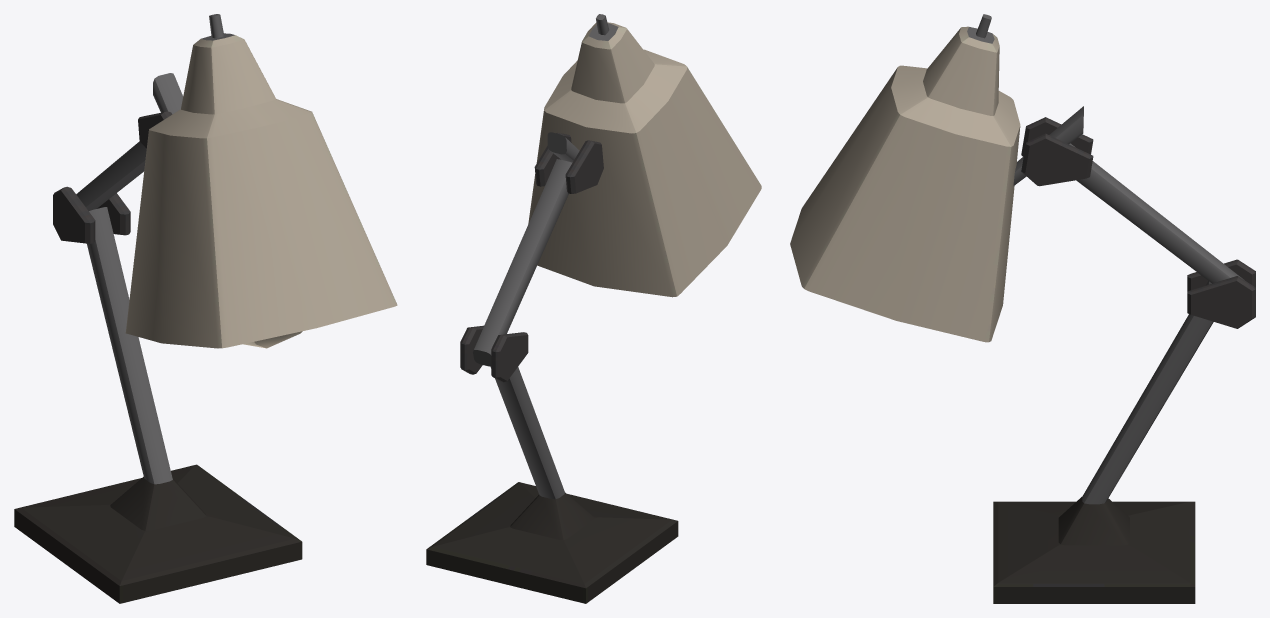
Rendered from desk lamp.glb.
3 views of the same model, side by side, from view 1: azimuth 30°, elevation 25°; view 2: azimuth 150°, elevation 25°; view 3: azimuth 270°, elevation 25° (orthographic). The views are drawn at different scales.
Visible parts, largest first — view 1: Desk_Lamp; view 2: Desk_Lamp; view 3: Desk_Lamp.
Part boxes in pixels (x1,y1,x2,y2): Desk_Lamp: [14, 14, 397, 603]; Desk_Lamp: [426, 14, 761, 603]; Desk_Lamp: [790, 14, 1255, 603].
Bounding box in the file's own units: 0.1738 × 0.4797 × 0.371.
Materials: 1 (1 with a texture image).
